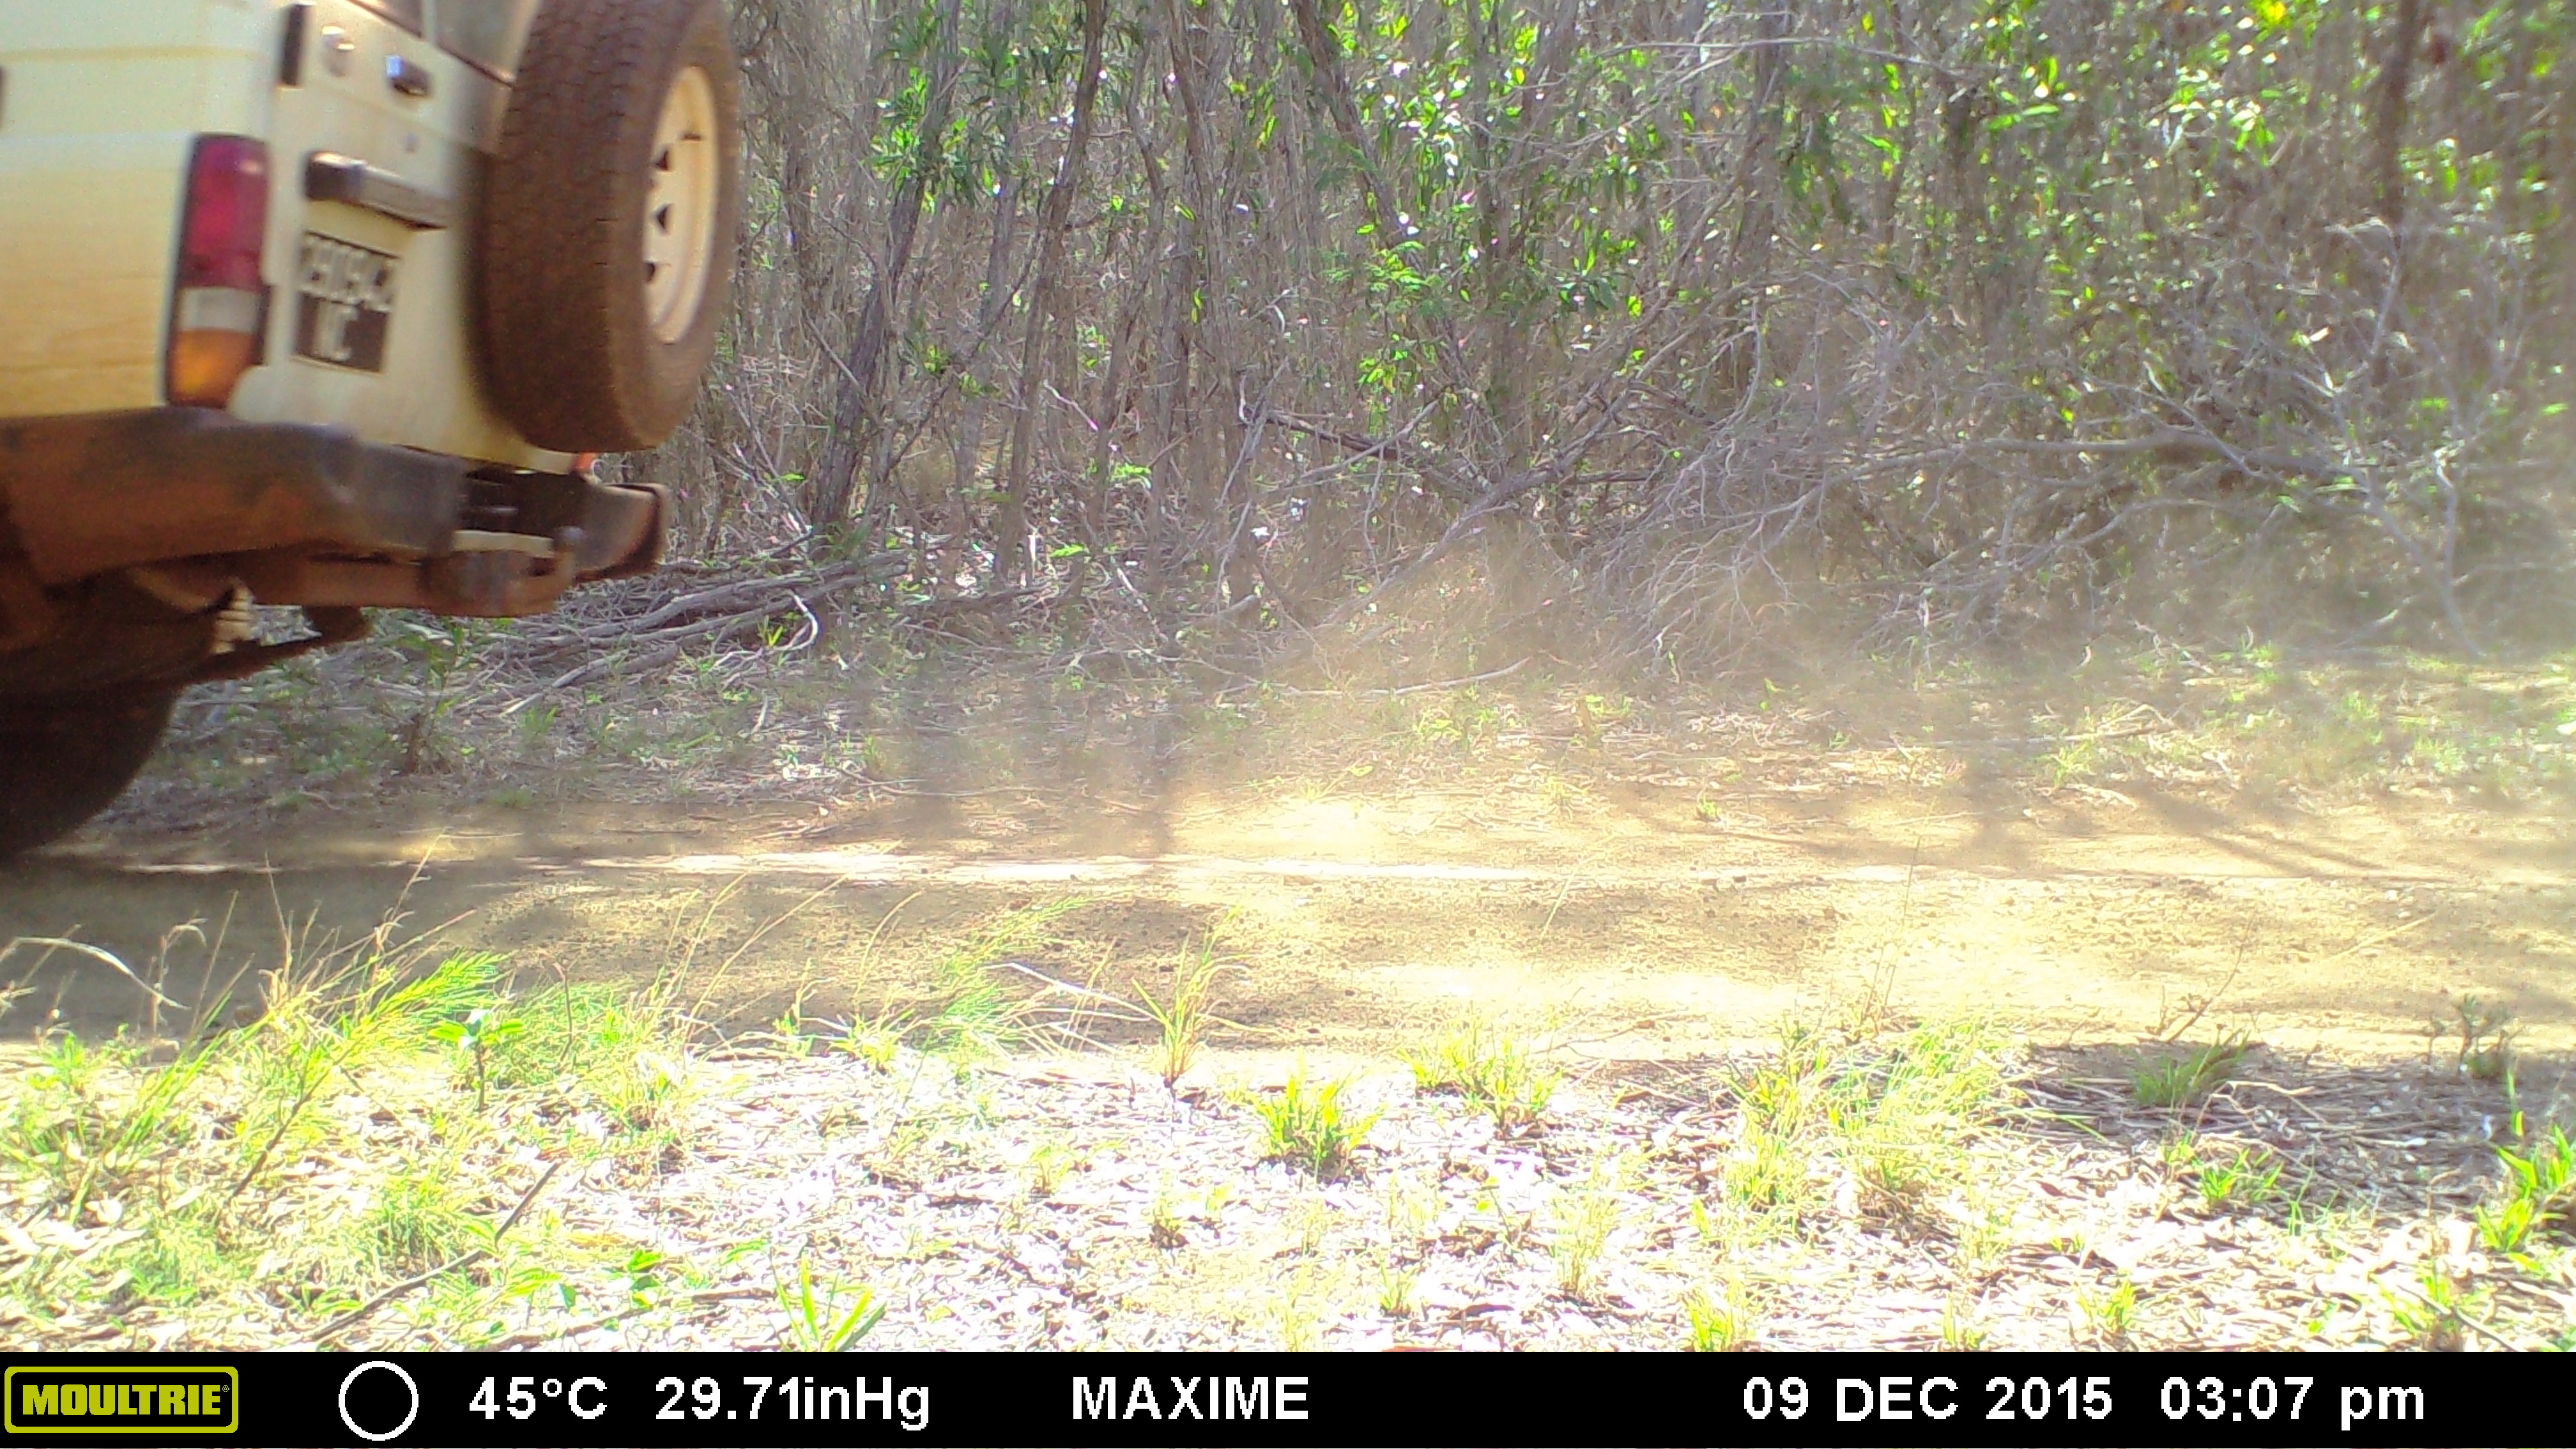Car: (2, 2, 743, 865)
